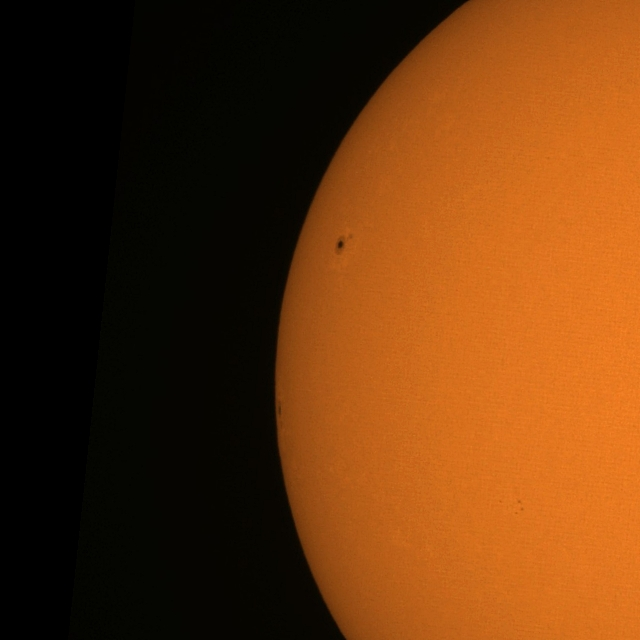sunspot: (498, 498, 526, 515), (334, 232, 354, 255), (512, 498, 525, 514)
